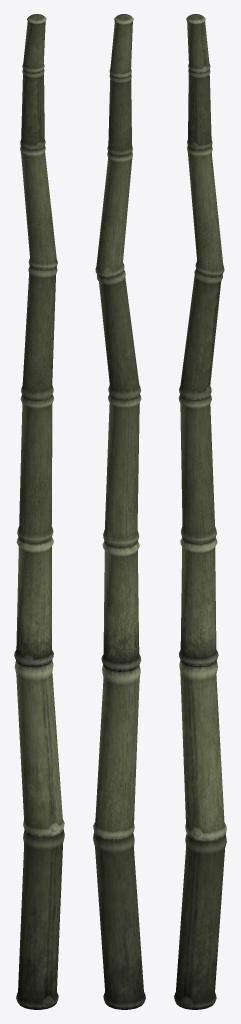
The model's file is BambooSet_part_35.fbx.
The picture shows the model from 3 angles, left to right: view 1: azimuth 30°, elevation 25°; view 2: azimuth 150°, elevation 25°; view 3: azimuth 330°, elevation 25°; orthographic projection.
Parts seen in each view (by area): view 1: Object_60.001; view 2: Object_60.001; view 3: Object_60.001.
Boxes of the visible parts, left/top/right/bottom form: Object_60.001: left=14, top=14, right=64, bottom=1009; Object_60.001: left=93, top=14, right=145, bottom=1009; Object_60.001: left=174, top=14, right=226, bottom=1009.
Size of the model in its own units: 180 by 3722 by 165.
